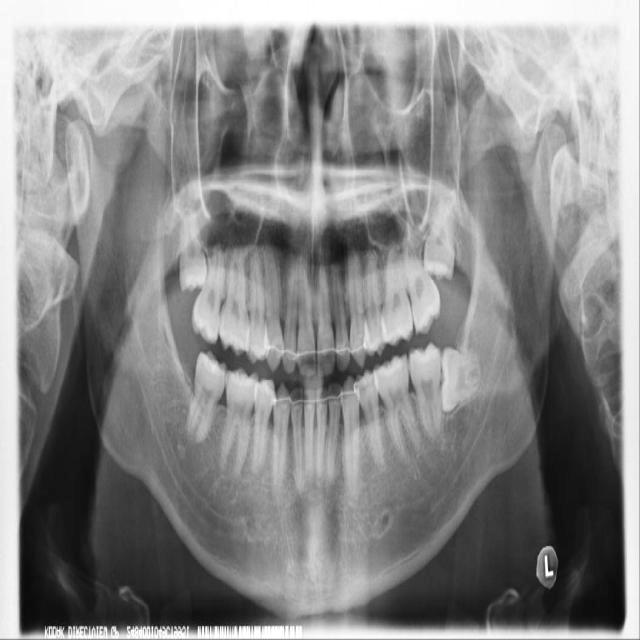impacted tooth: (421, 171, 454, 277), (179, 184, 207, 289), (441, 347, 485, 410)
